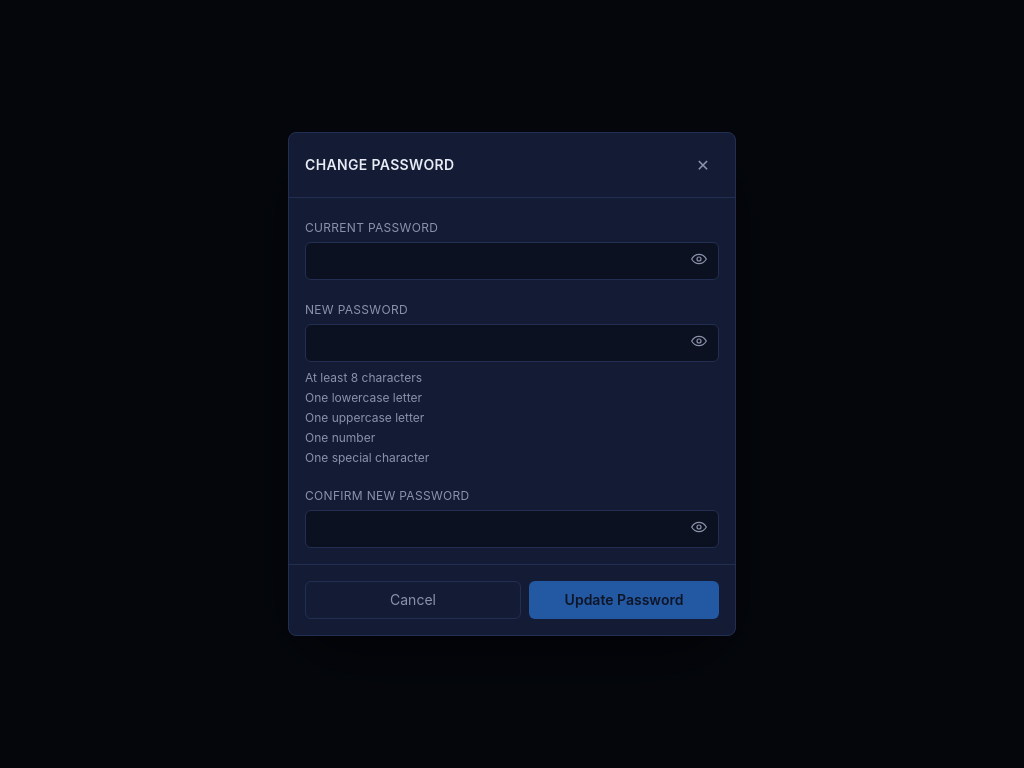
Test: ChangePasswordModal › surfaces the backend's 400 message (wrong current password)
This screenshot has width=1024, height=768.
Type "OldPass!xK9pQ2v3" into the password field labelled "Current Password". click: coordinates (512, 261)
box: [305,242,719,280]
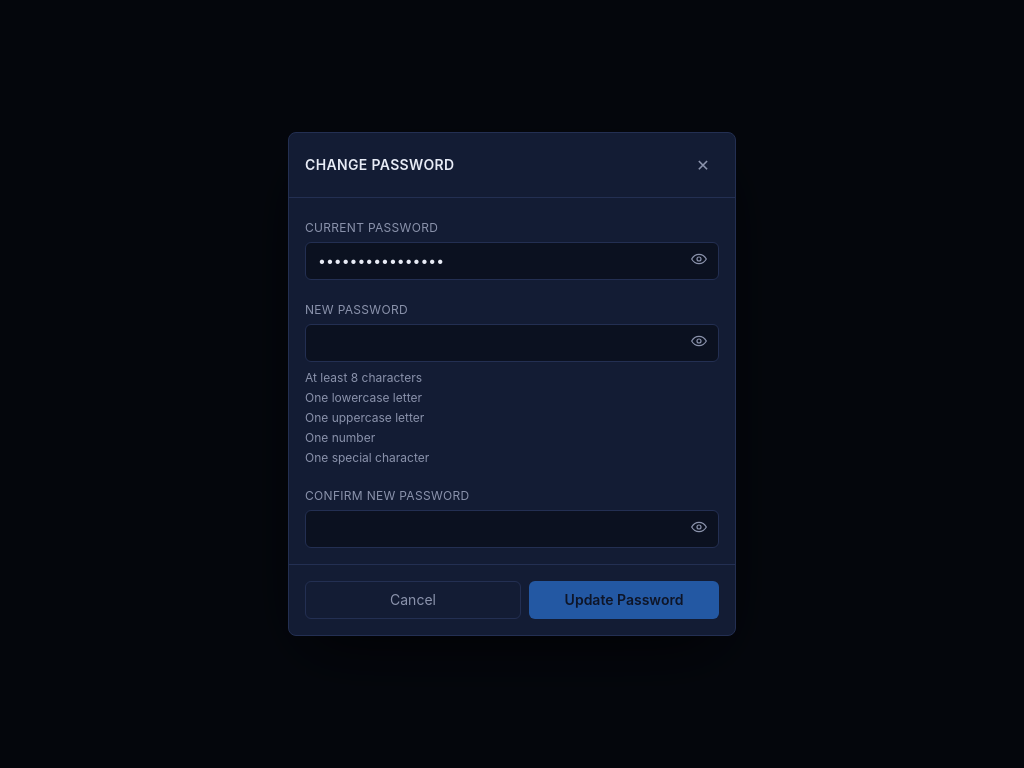
Type "Str0ngPass!xK9pQ2" into the password field labelled "New Password". click: coordinates (512, 343)
box: [305,324,719,362]
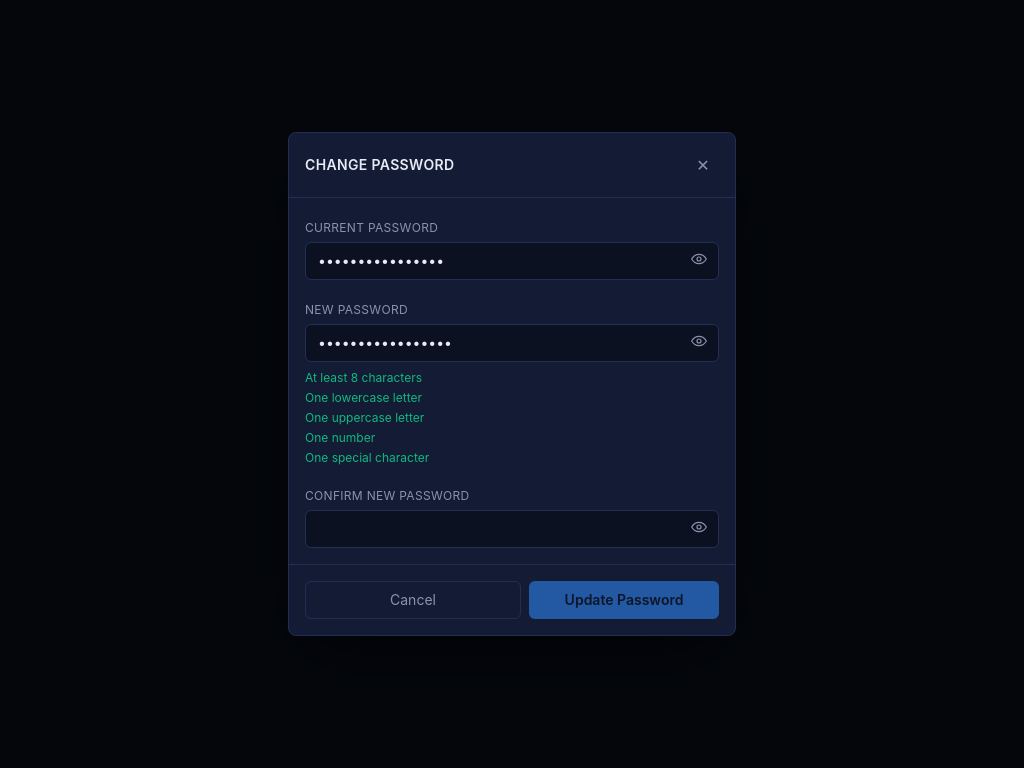
Type "Str0ngPass!xK9pQ2" into the password field labelled "Confirm New Password". click: coordinates (512, 529)
box: [305,510,719,548]
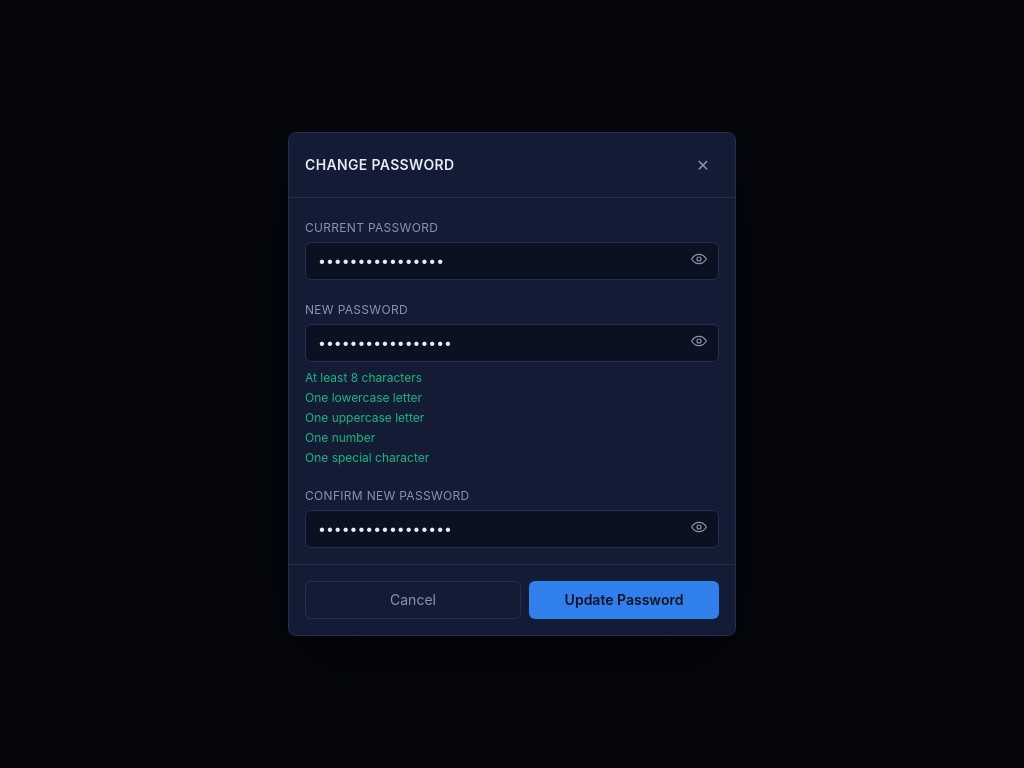
Click the button "Update Password". click: coordinates (624, 600)
box: [529,581,719,619]
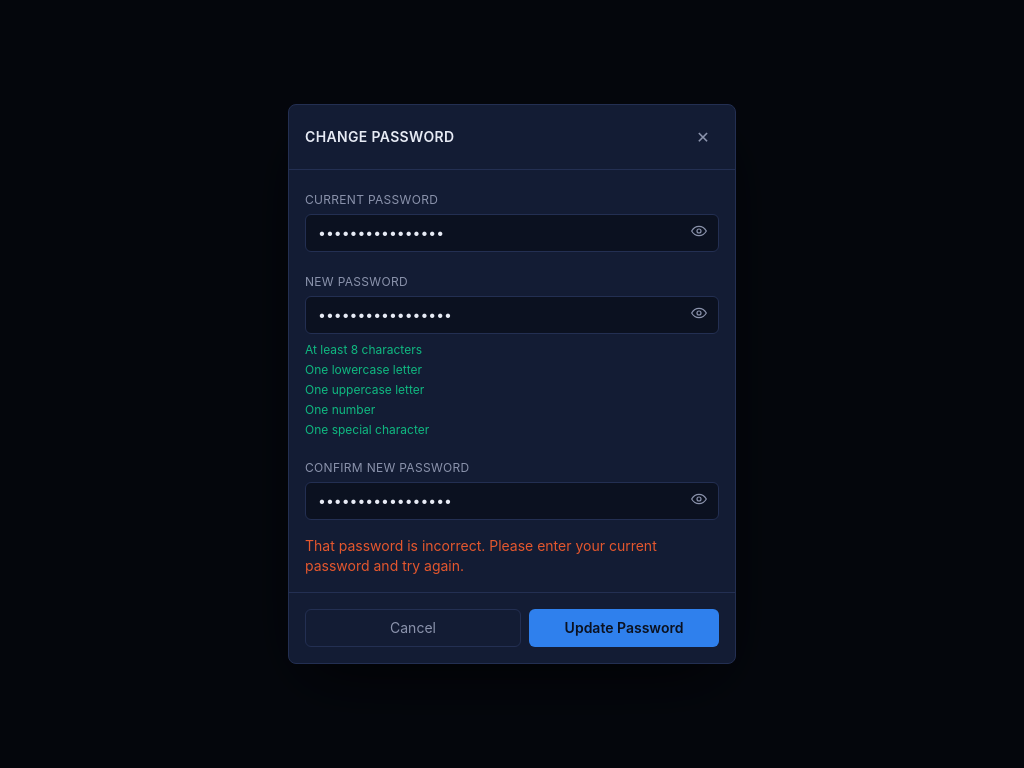
Expected: the text "That password is incorrect. Please enter your current password and try again." is shown, [305,537,657,574]
